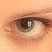eye: (19, 19, 33, 32)
